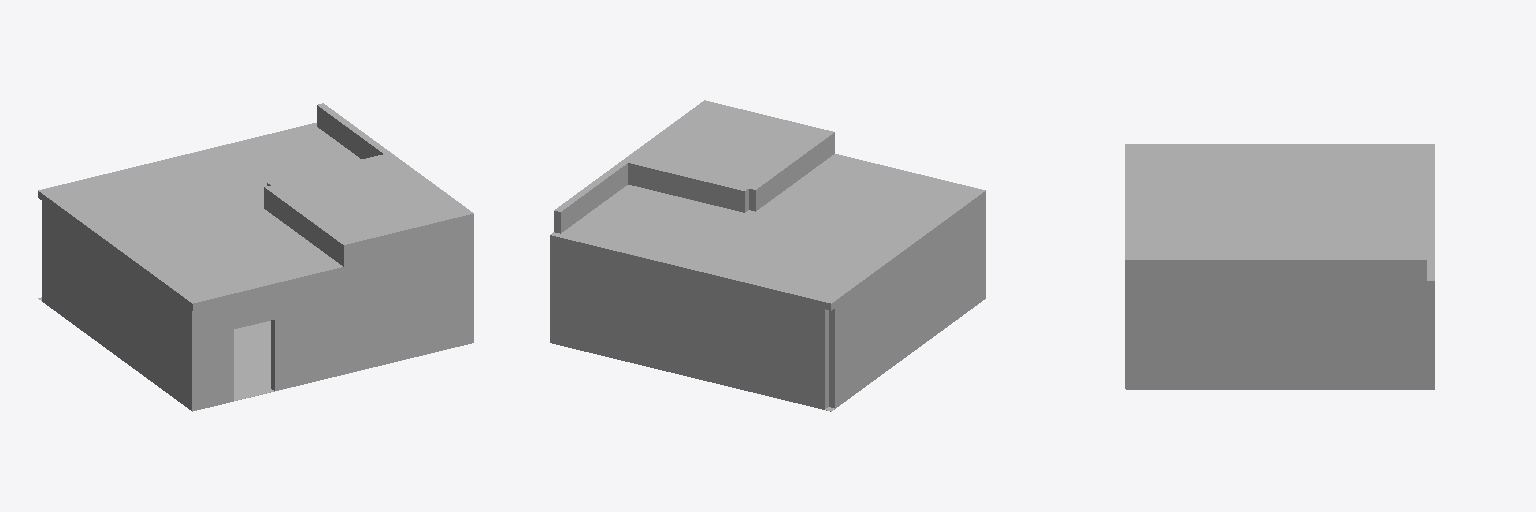
The model's file is LC_cont1_650.obj.
3 views of the same model, side by side, from view 1: azimuth 30°, elevation 25°; view 2: azimuth 150°, elevation 25°; view 3: azimuth 270°, elevation 25° (orthographic).
Visible parts, largest first — view 1: LC_cont1_650; view 2: LC_cont1_650; view 3: LC_cont1_650.
Boxes of the visible parts, <box> form: LC_cont1_650: <box>38,103,473,411</box>; LC_cont1_650: <box>550,100,985,411</box>; LC_cont1_650: <box>1125,144,1434,389</box>.
Bounding box in the file's own units: 13.12 × 5.77 × 12.48.